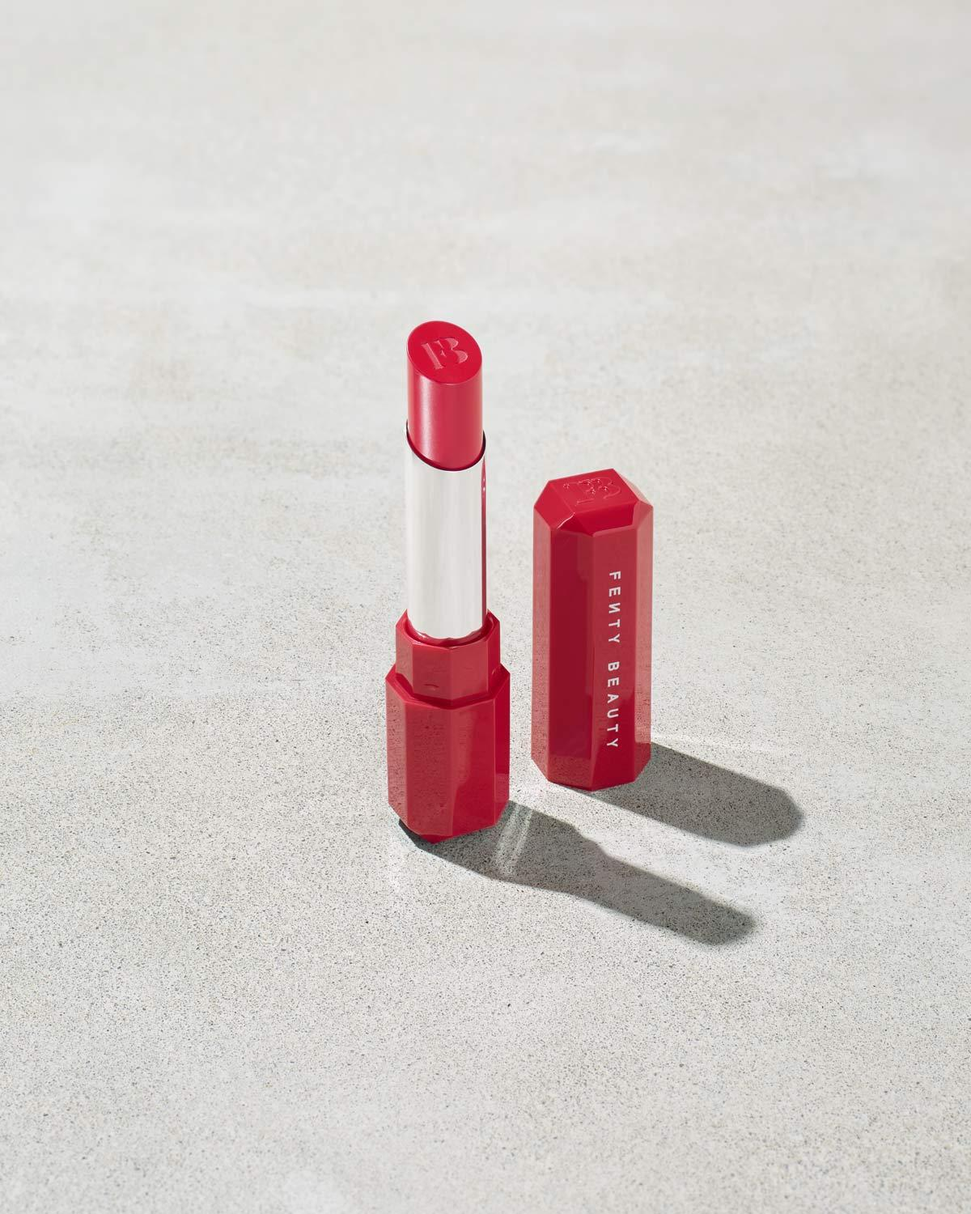lipstick: (349, 285, 572, 841)
